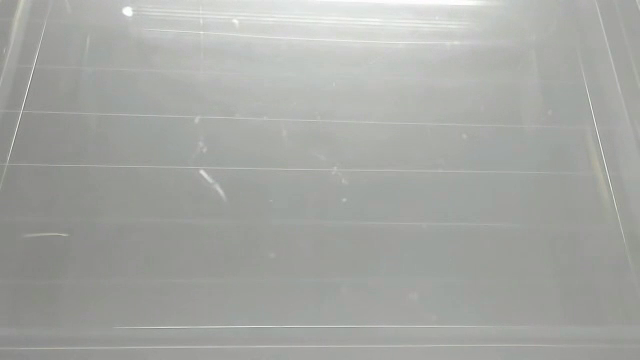alpha: (17, 230, 73, 241), (119, 4, 136, 19)
